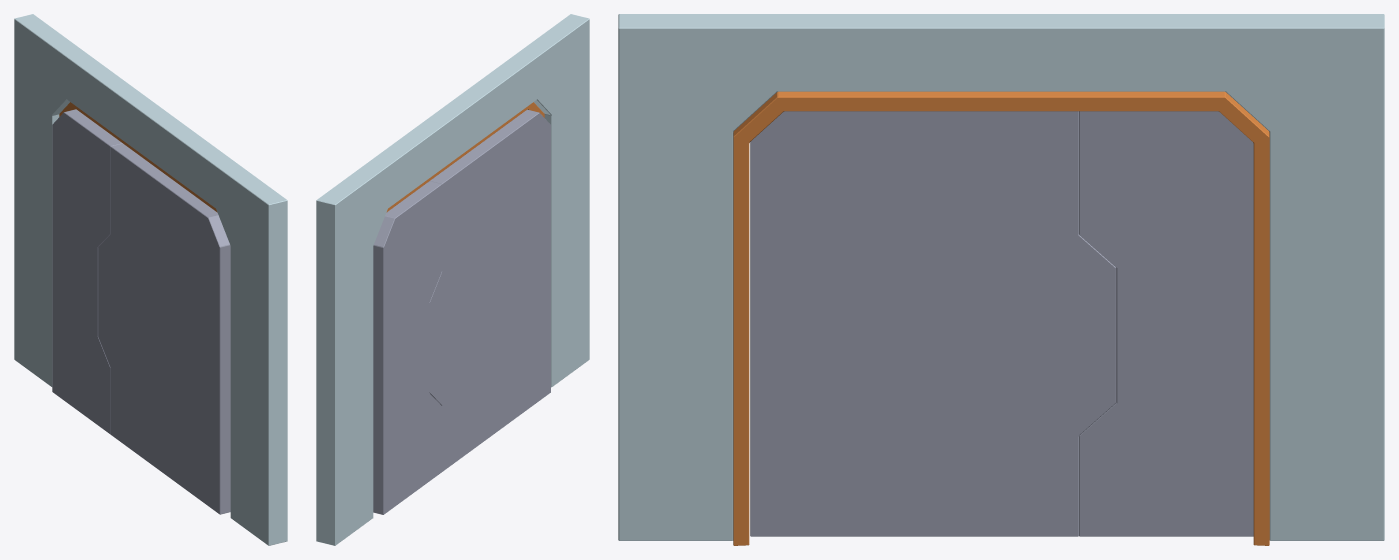
File: MC_EX_Test_Wall_Door_01.fbx
3 renders of one model, left to right at view 1: azimuth 30°, elevation 25°; view 2: azimuth 150°, elevation 25°; view 3: azimuth 270°, elevation 25°, orthographic. The views are drawn at different scales.
Visible parts, largest first — view 1: Plane.042; view 2: Plane.042; view 3: Plane.042.
Part boxes in pixels (x1,y1,x2,y2): Plane.042: (14, 14, 287, 545); Plane.042: (316, 14, 589, 545); Plane.042: (618, 14, 1384, 545).
Bounding box in the file's own units: 35.48 × 370 × 500.
